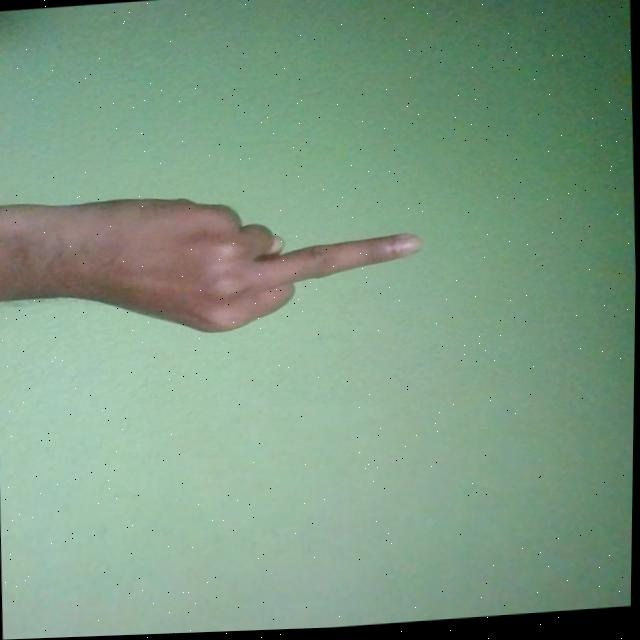Middle Finger: (0, 181, 427, 348)
